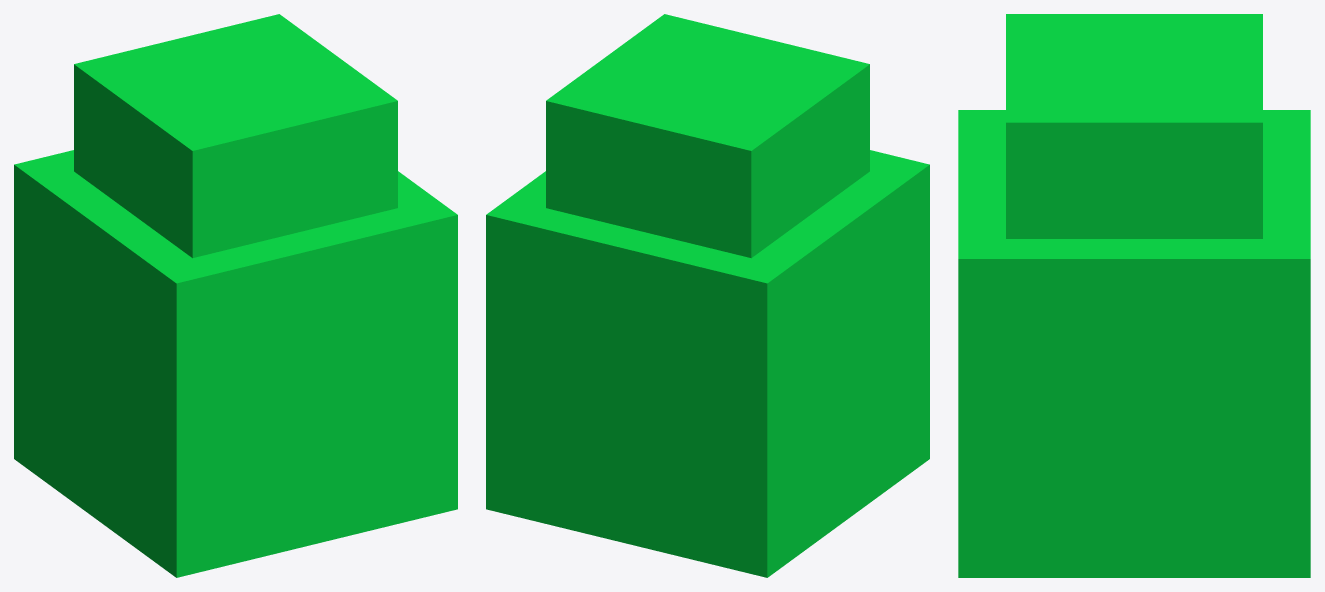
The picture shows the model from 3 angles, left to right: view 1: azimuth 30°, elevation 25°; view 2: azimuth 150°, elevation 25°; view 3: azimuth 270°, elevation 25°; orthographic projection. The views are drawn at different scales.
Parts seen in each view (by area): view 1: pCube339; view 2: pCube339; view 3: pCube339.
Part boxes in pixels (x1,y1,x2,y2): pCube339: [14, 14, 457, 577]; pCube339: [486, 14, 929, 577]; pCube339: [958, 14, 1310, 577].
Size of the model in its own units: 2.54 by 3.46 by 2.54.
